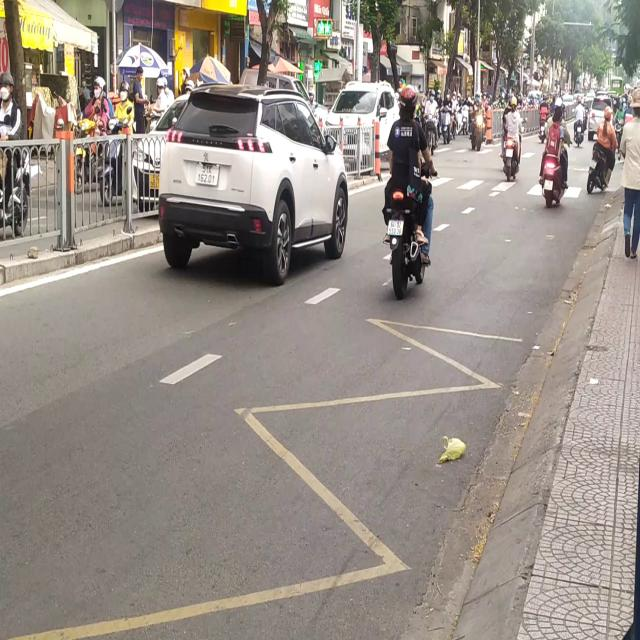bien_trang: (194, 162, 220, 188), (387, 219, 403, 235)
bien_vang: (150, 171, 160, 190)
